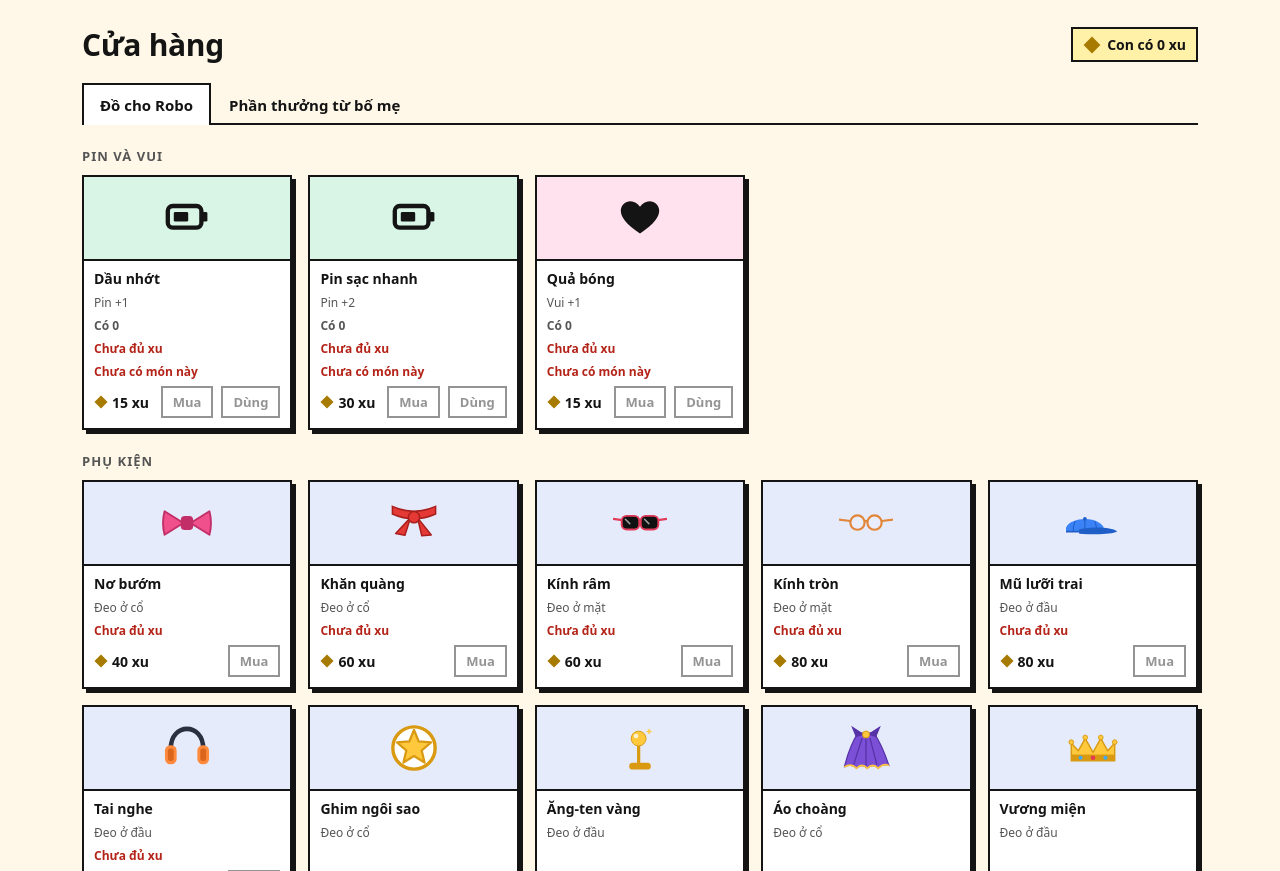
ShopScreen: rewards from the parents › no reward yet
Click the tab "Phần thưởng từ bố mẹ".
click(315, 104)  # box [211, 83, 418, 125]
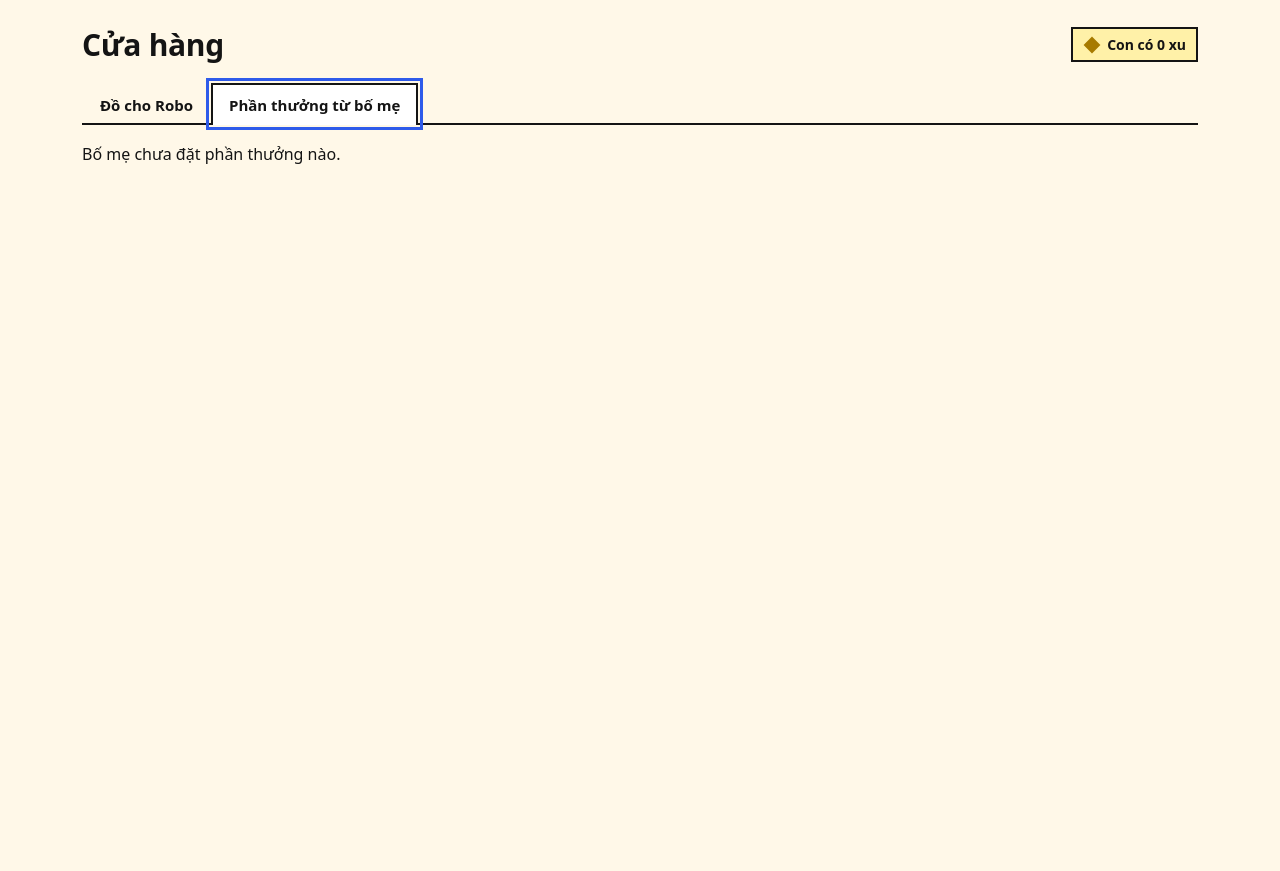
Expected: the text "Bố mẹ chưa đặt phần thưởng nào." is shown, [82, 143, 340, 165]
